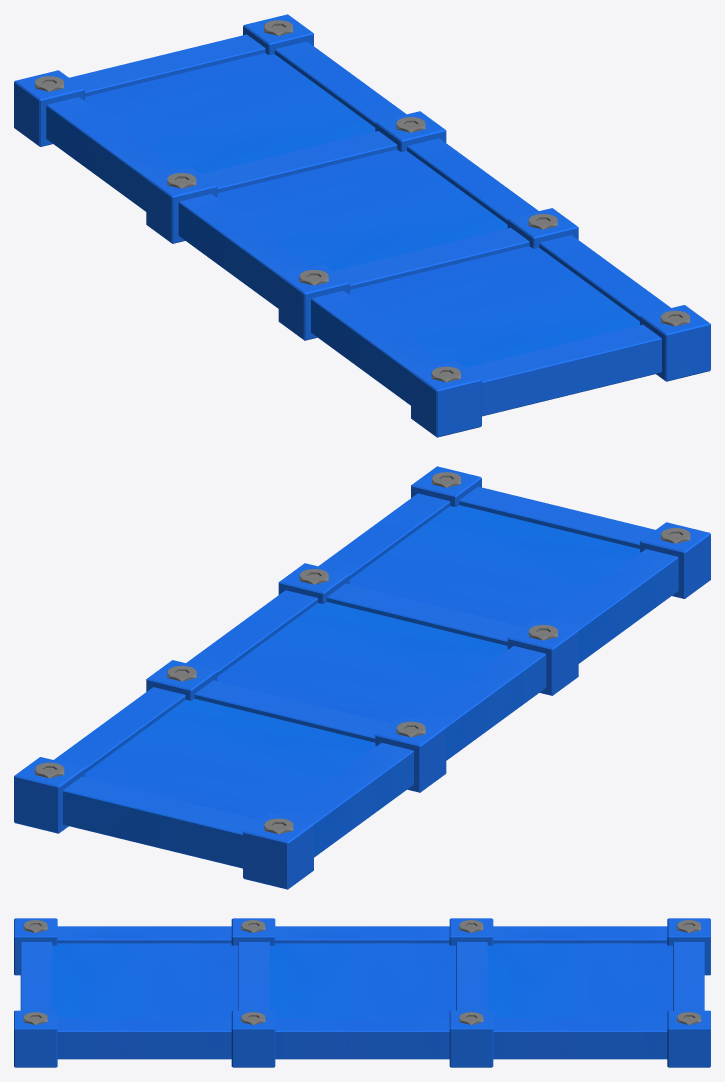
The model's file is FramedSquareTripleBlue.fbx.
3 renders of one model, top to bottom at view 1: azimuth 30°, elevation 25°; view 2: azimuth 150°, elevation 25°; view 3: azimuth 270°, elevation 25°, orthographic. The views are drawn at different scales.
Parts seen in each view (by area): view 1: Cube, Cube.001; view 2: Cube, Cube.001; view 3: Cube, Cube.001.
Boxes of the visible parts, left/top/right/bottom form: Cube: left=14, top=14, right=710, bottom=437; Cube.001: left=35, top=20, right=689, bottom=382; Cube: left=14, top=466, right=710, bottom=889; Cube.001: left=35, top=472, right=690, bottom=834; Cube: left=14, top=918, right=710, bottom=1067; Cube.001: left=23, top=920, right=700, bottom=1024.
Bounding box in the file's own units: 6 × 1.05 × 16.
